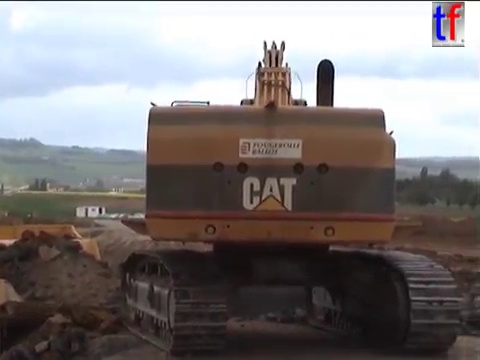excavator: (113, 37, 465, 357)
truck: (1, 221, 136, 360)
